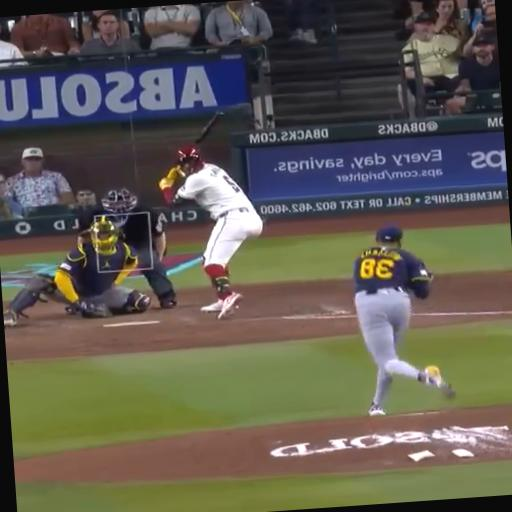bat: (194, 112, 224, 144)
